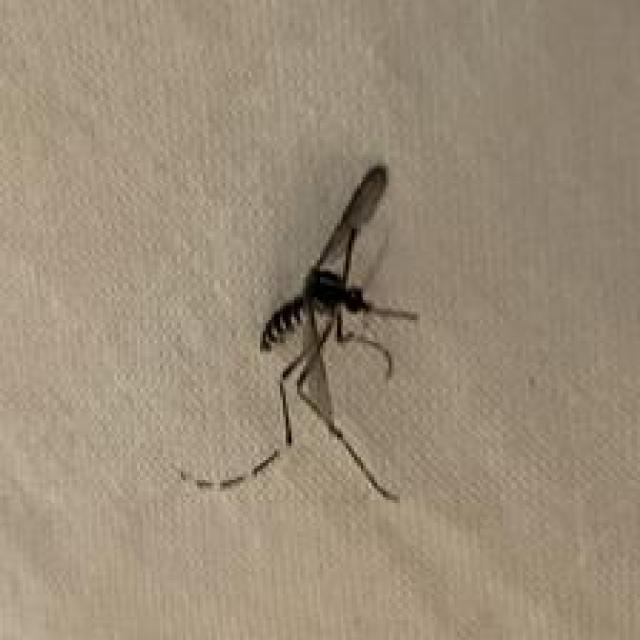Aedes albopictus: (174, 163, 420, 503)
